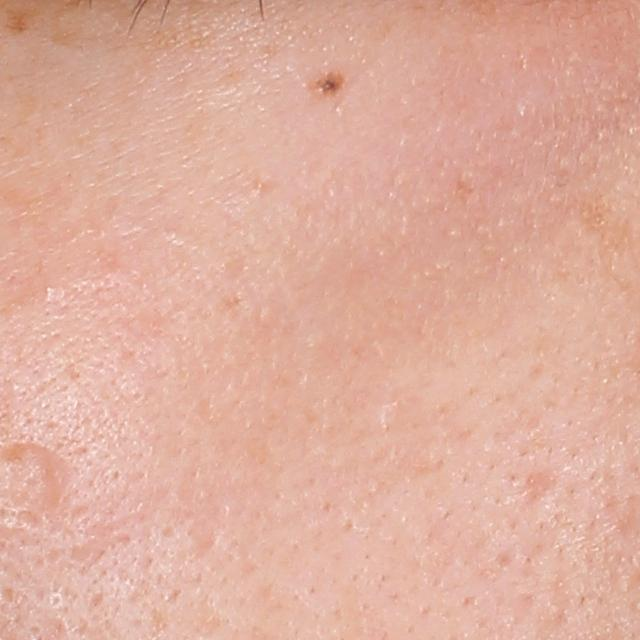atrophic_scar: (512, 461, 596, 538)
melasma: (45, 21, 105, 58), (4, 7, 40, 36)
nevus: (307, 70, 346, 101)
